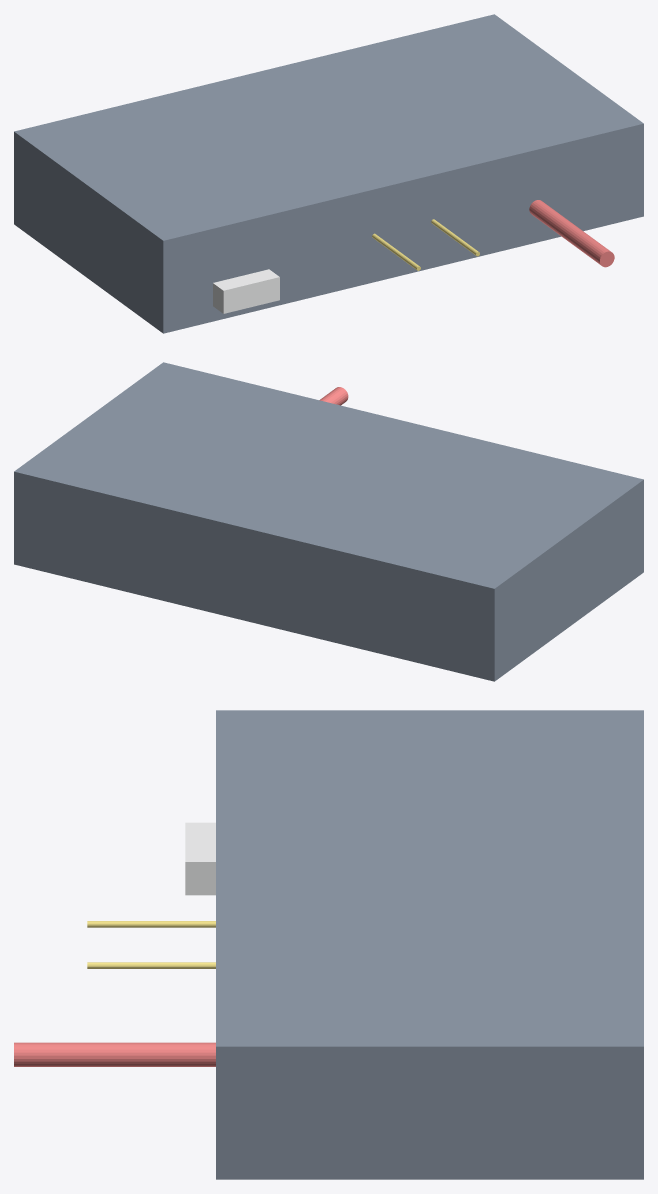
Rendered from battery-2s-lipo.glb.
3 renders of one model, top to bottom at view 1: azimuth 30°, elevation 25°; view 2: azimuth 150°, elevation 25°; view 3: azimuth 270°, elevation 25°, orthographic. The views are drawn at different scales.
Parts seen in each view (by area): view 1: battery-2s-lipo_mesh; view 2: battery-2s-lipo_mesh; view 3: battery-2s-lipo_mesh.
Part boxes in pixels (<box>): battery-2s-lipo_mesh: <box>14,14,643,333</box>; battery-2s-lipo_mesh: <box>14,362,643,681</box>; battery-2s-lipo_mesh: <box>14,710,643,1179</box>.
Bounding box in the file's own units: 65 × 12 × 51.5.
